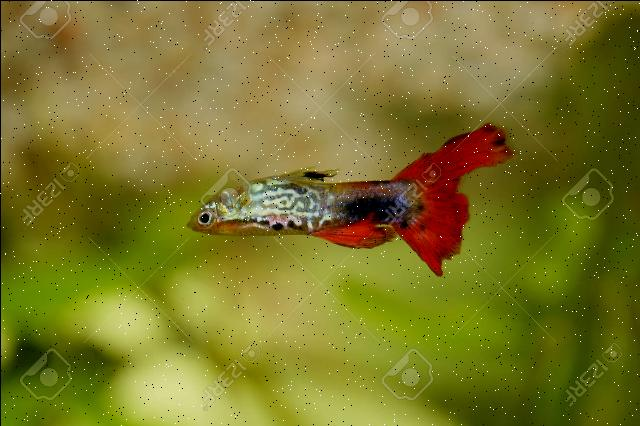Mulut: (176, 193, 224, 255)
Sirip Anal: (286, 155, 350, 191)
Sirip Ekor: (386, 104, 522, 284), (296, 206, 409, 270)
